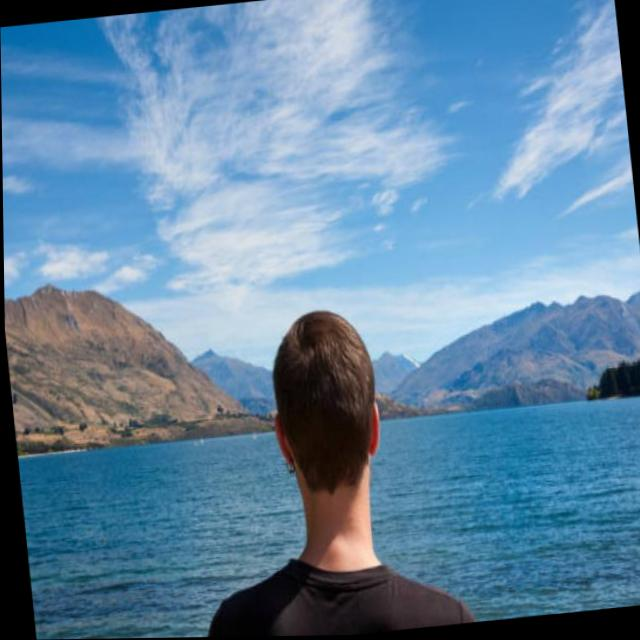no helmet: (262, 302, 390, 514)
